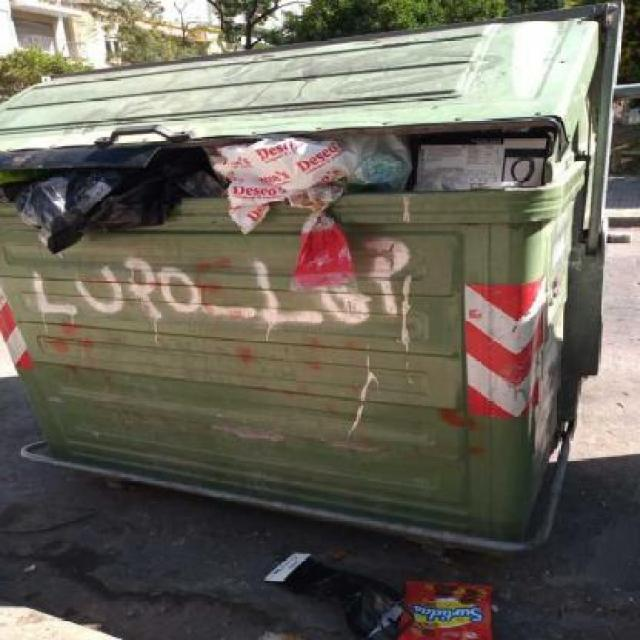garbage: (2, 151, 620, 240), (266, 549, 534, 640)
